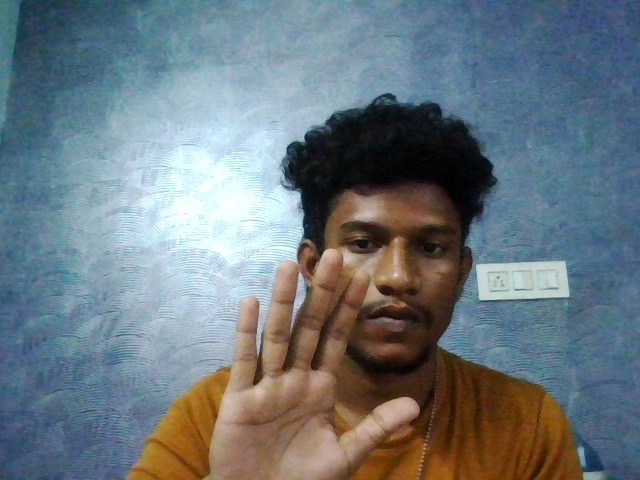hello: (200, 243, 425, 478)
